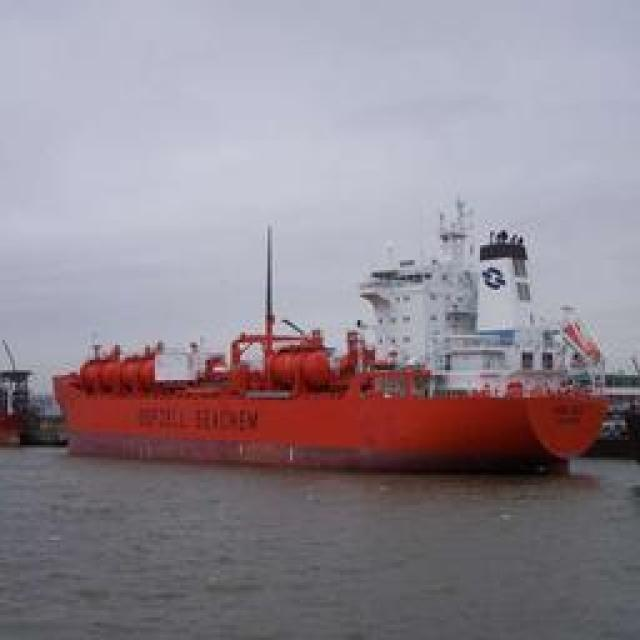CIV_Ship: (48, 226, 618, 472)
